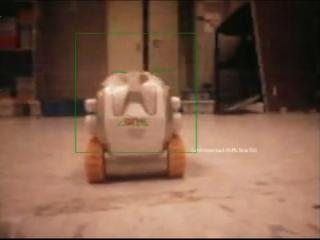cozmo: (83, 69, 186, 183)
